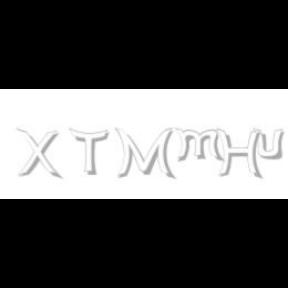H: (216, 128, 262, 180)
M: (114, 128, 174, 180)
T: (69, 128, 109, 176)
X: (16, 128, 60, 180)
m: (173, 128, 225, 162)
u: (252, 128, 288, 160)
